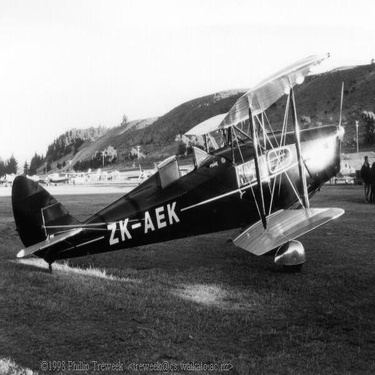airplane: (1, 46, 363, 288)
